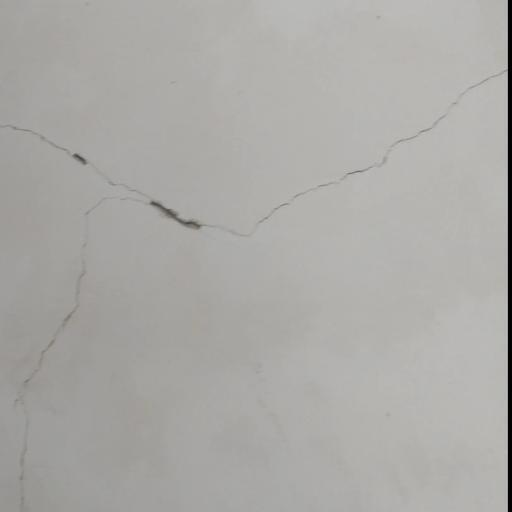minor_crack: (0, 61, 509, 511)
